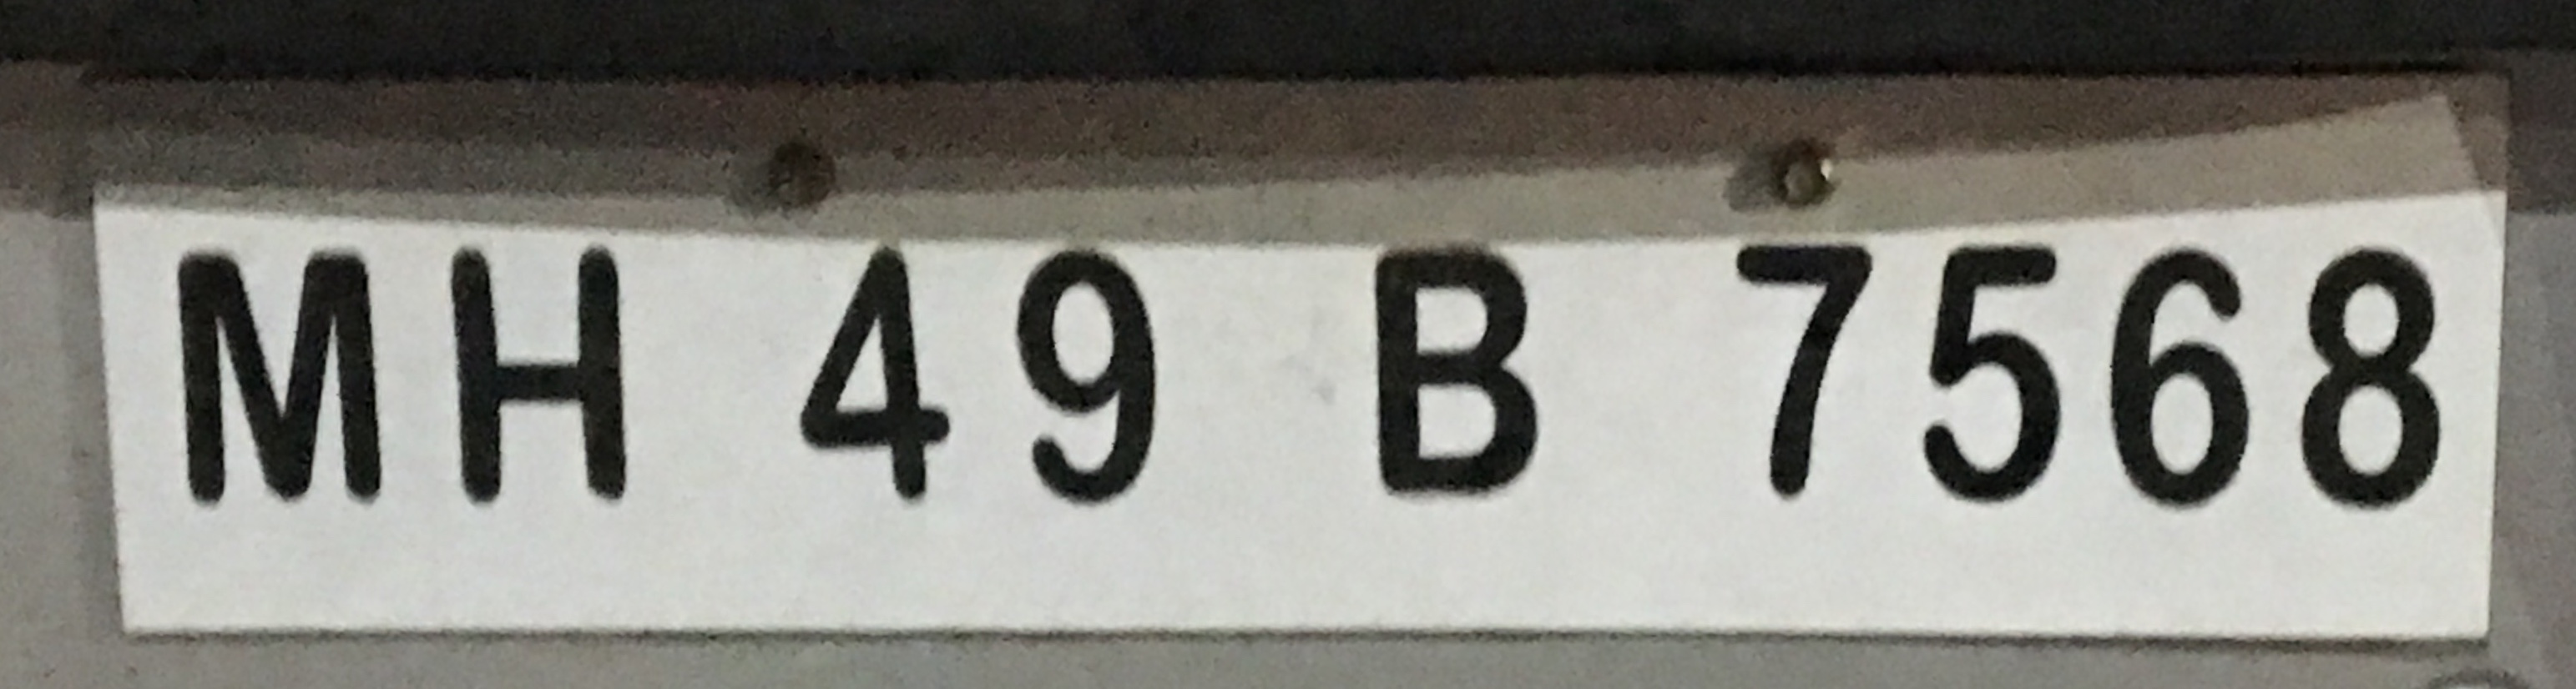numberplate: (83, 61, 2503, 656)
